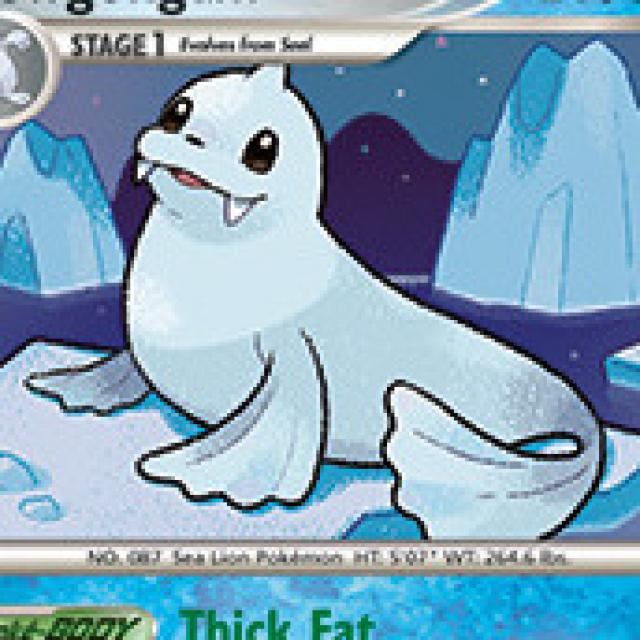Dewgong: (108, 70, 522, 452)
